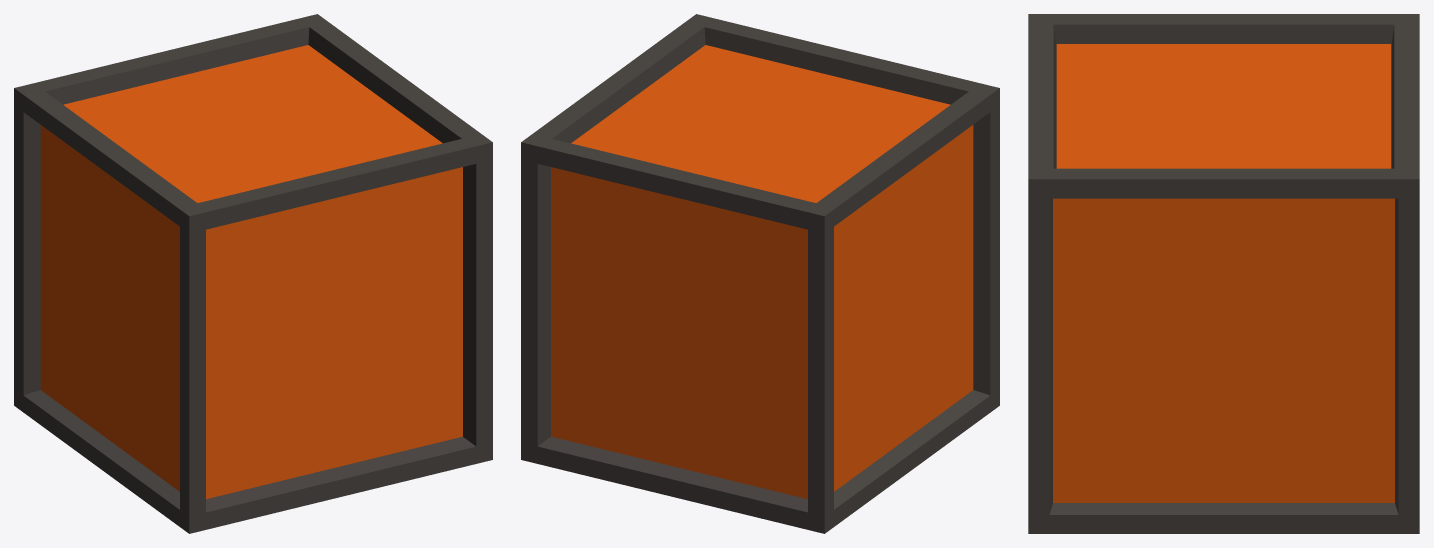
Rendered from Crate.fbx.
3 views of the same model, side by side, from view 1: azimuth 30°, elevation 25°; view 2: azimuth 150°, elevation 25°; view 3: azimuth 270°, elevation 25° (orthographic). The views are drawn at different scales.
Visible parts, largest first — view 1: Cube; view 2: Cube; view 3: Cube.
Boxes of the visible parts, box(x1,y1,x2,y2) form: Cube: box(14, 14, 492, 533); Cube: box(521, 14, 999, 533); Cube: box(1028, 14, 1419, 533).
Size of the model in its own units: 100 by 100 by 100.
